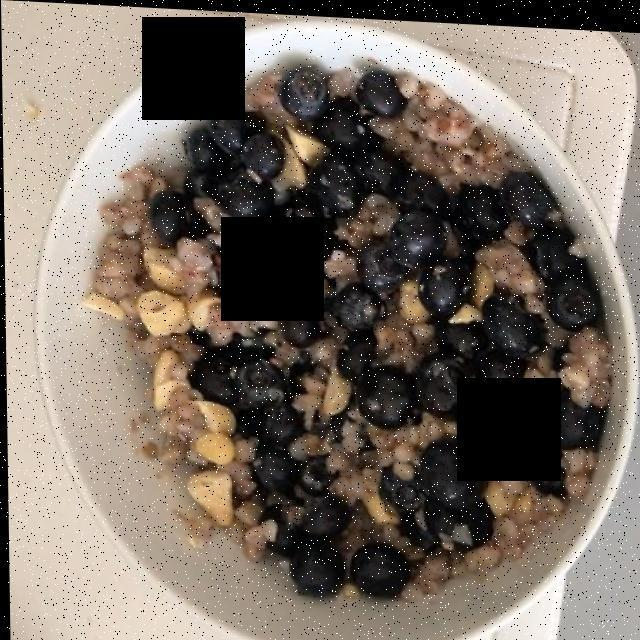blueberries: (151, 79, 602, 605)
grain: (87, 48, 602, 588)
